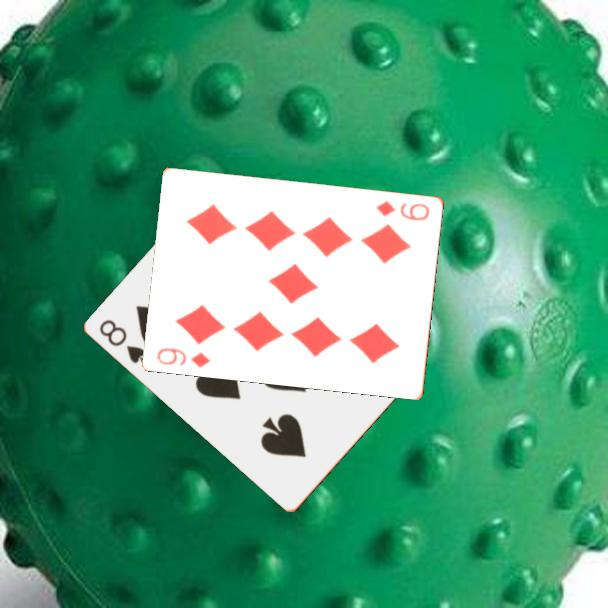d09: (373, 197, 433, 223), (154, 344, 214, 370)
s08: (96, 316, 149, 366)
